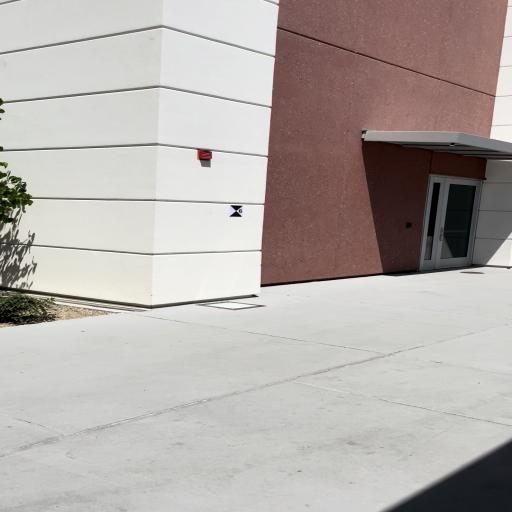target6: (229, 205, 243, 217)
